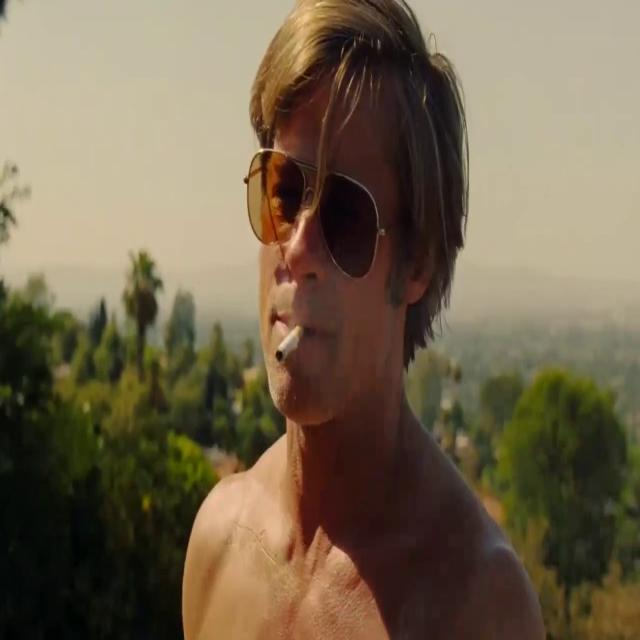Smooking: (264, 318, 308, 376)
